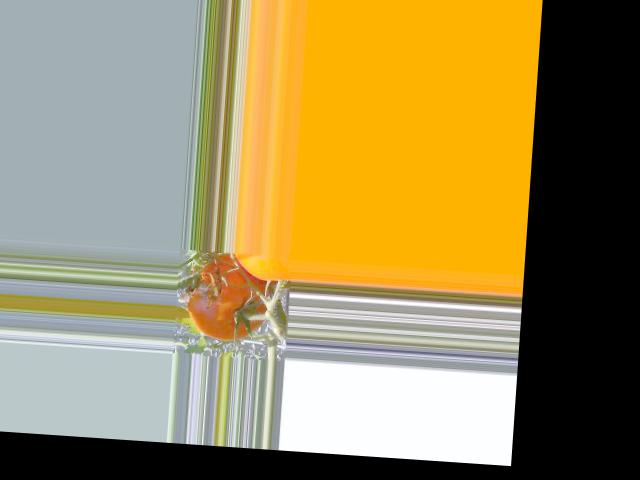tomato: (182, 251, 270, 343)
